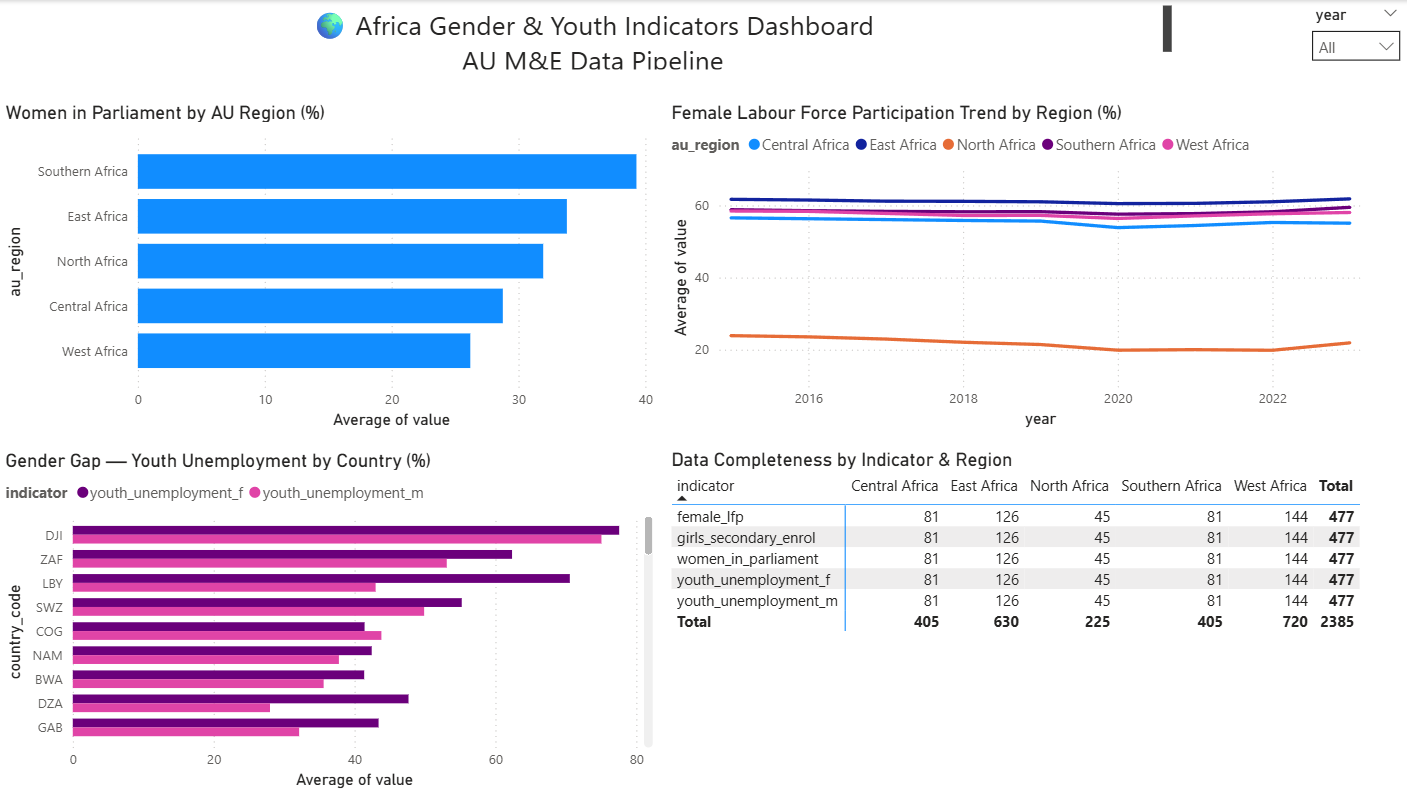

This screenshot's page, from the dashboard's own definition file:
{"tool":"powerbi","page":{"name":"AU Dashboard","canvas":[1280,720],"ordinal":0},"visuals":[{"type":"slicer","fields":{"Values":["all_indicators.year"]},"box":[1179.8,0,100.2,76.8],"z":0},{"type":"clusteredBarChart","title":"Women in Parliament by AU Region (%)","fields":{"Category":["all_indicators.au_region"],"Y":["Avg(all_indicators.value)"]},"box":[0,91.4,597.2,301.5],"z":1000},{"type":"lineChart","title":"Female Labour Force Participation Trend by Region (%)","fields":{"Y":["Avg(all_indicators.value)"],"Category":["all_indicators.year"],"Series":["all_indicators.au_region"]},"box":[604,91.4,638.1,301.5],"z":2000},{"type":"pivotTable","title":"Data Completeness by Indicator & Region","fields":{"Rows":["all_indicators.indicator"],"Columns":["all_indicators.au_region"],"Values":["CountNonNull(all_indicators.quality_flag)"]},"box":[604,406.6,638.1,313.2],"z":3000},{"type":"textbox","box":[14.6,0,1053.4,68.1],"z":4000},{"type":"clusteredBarChart","title":"Gender Gap — Youth Unemployment by Country (%)","fields":{"Category":["all_indicators.country_code"],"Y":["Avg(all_indicators.value)"],"Series":["all_indicators.indicator"]},"box":[0,407,597,313],"z":5000}]}

Visuals, with their boxes on the page's 1280x720 design canvas (x1, y1, x2, y2). These are canvas units, not pixel positions in the 1407x794 screenshot, which may show the page scaled, cropped or inside an application window:
slicer - all_indicators.year: bbox=[1180, 0, 1280, 77]
"Women in Parliament by AU Region (%)" clusteredBarChart: bbox=[0, 91, 597, 393]
"Female Labour Force Participation Trend by Region (%)" lineChart: bbox=[604, 91, 1242, 393]
"Data Completeness by Indicator & Region" pivotTable: bbox=[604, 407, 1242, 720]
textbox: bbox=[15, 0, 1068, 68]
"Gender Gap — Youth Unemployment by Country (%)" clusteredBarChart: bbox=[0, 407, 597, 720]
